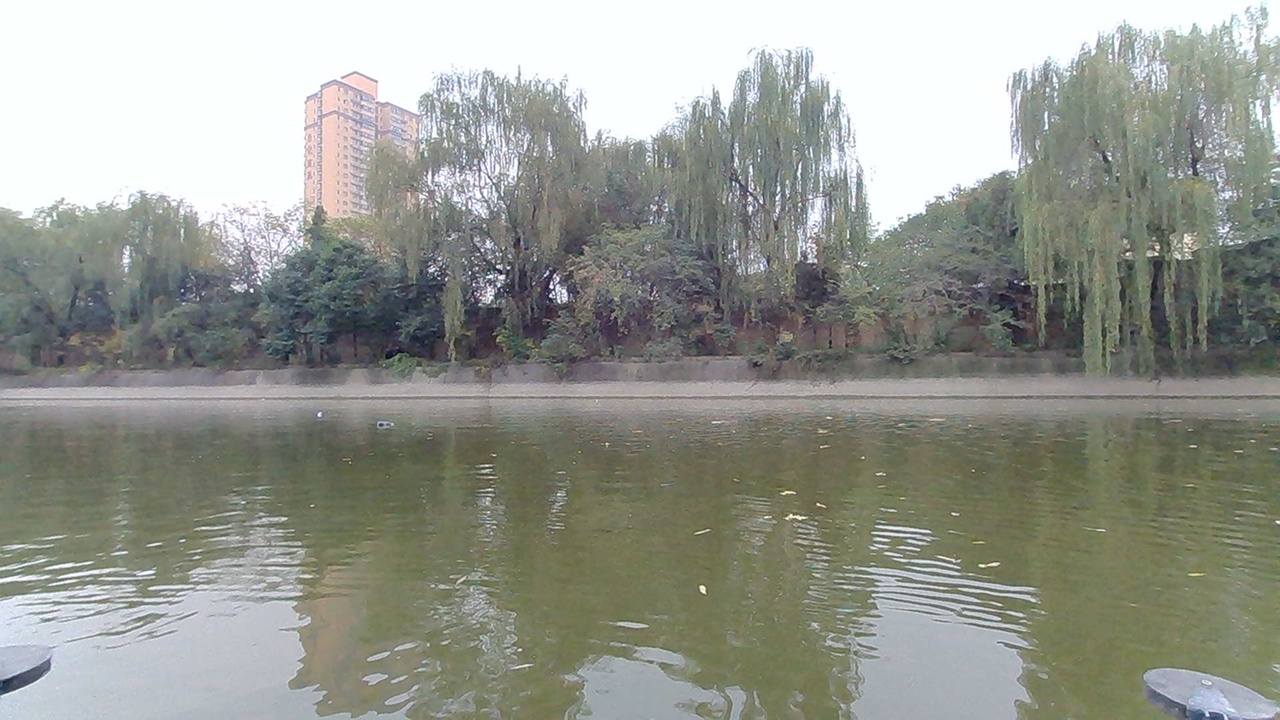bottle: (367, 410, 404, 434)
